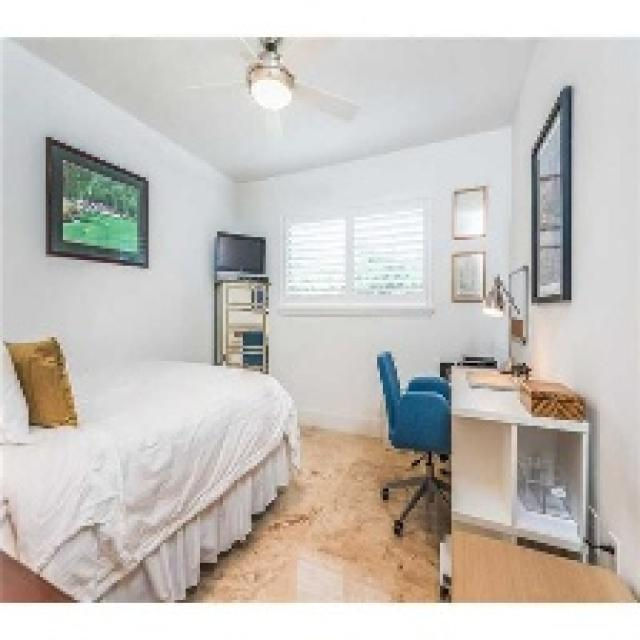Bed: (0, 354, 300, 600)
